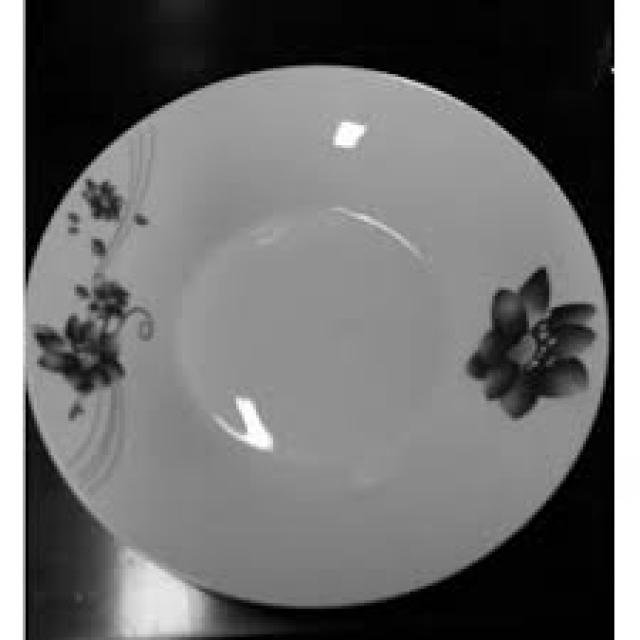dish: (22, 40, 612, 620)
